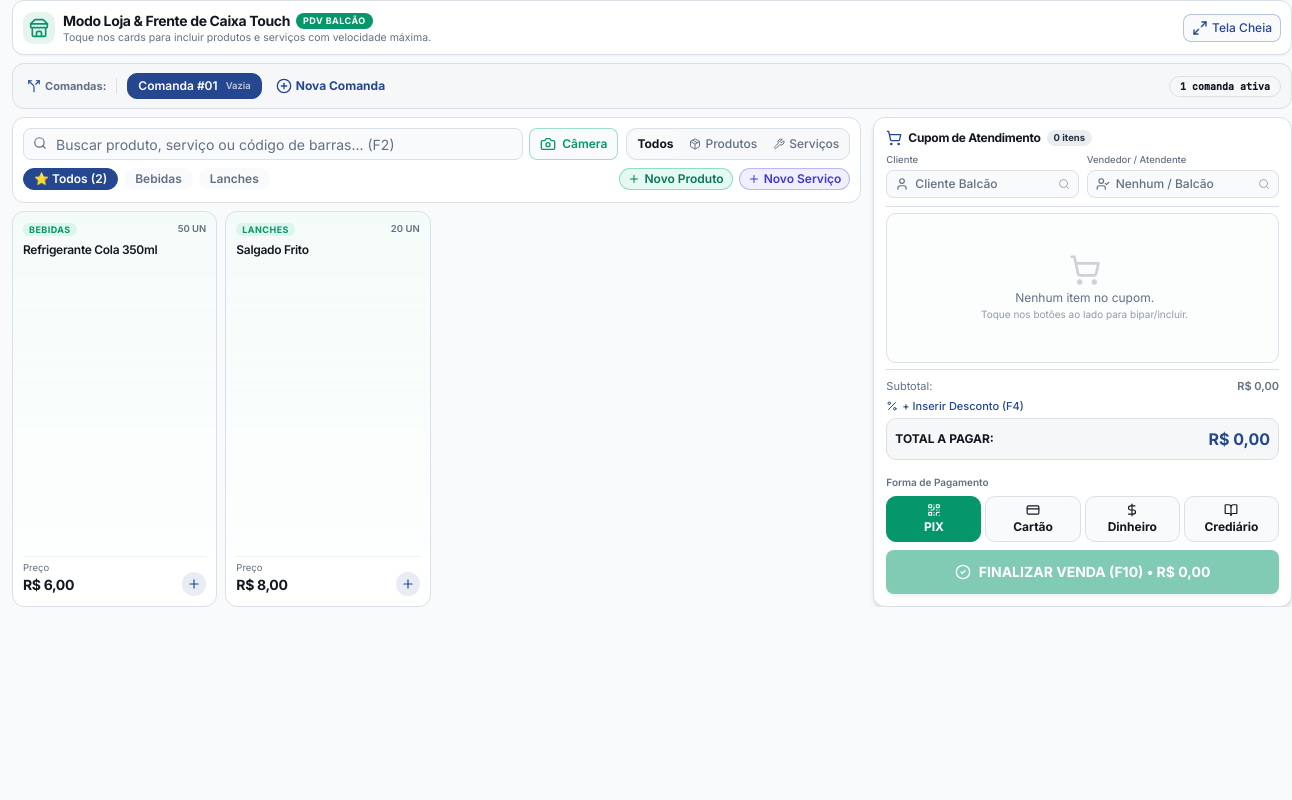
it: StorePos: Modo Comandas & Crediário Próprio › displays Crediário button and analyzes credit limit
# Add item to cart
Click the heading "Refrigerante Cola 350ml": x=90, y=250 [23, 242, 157, 257]
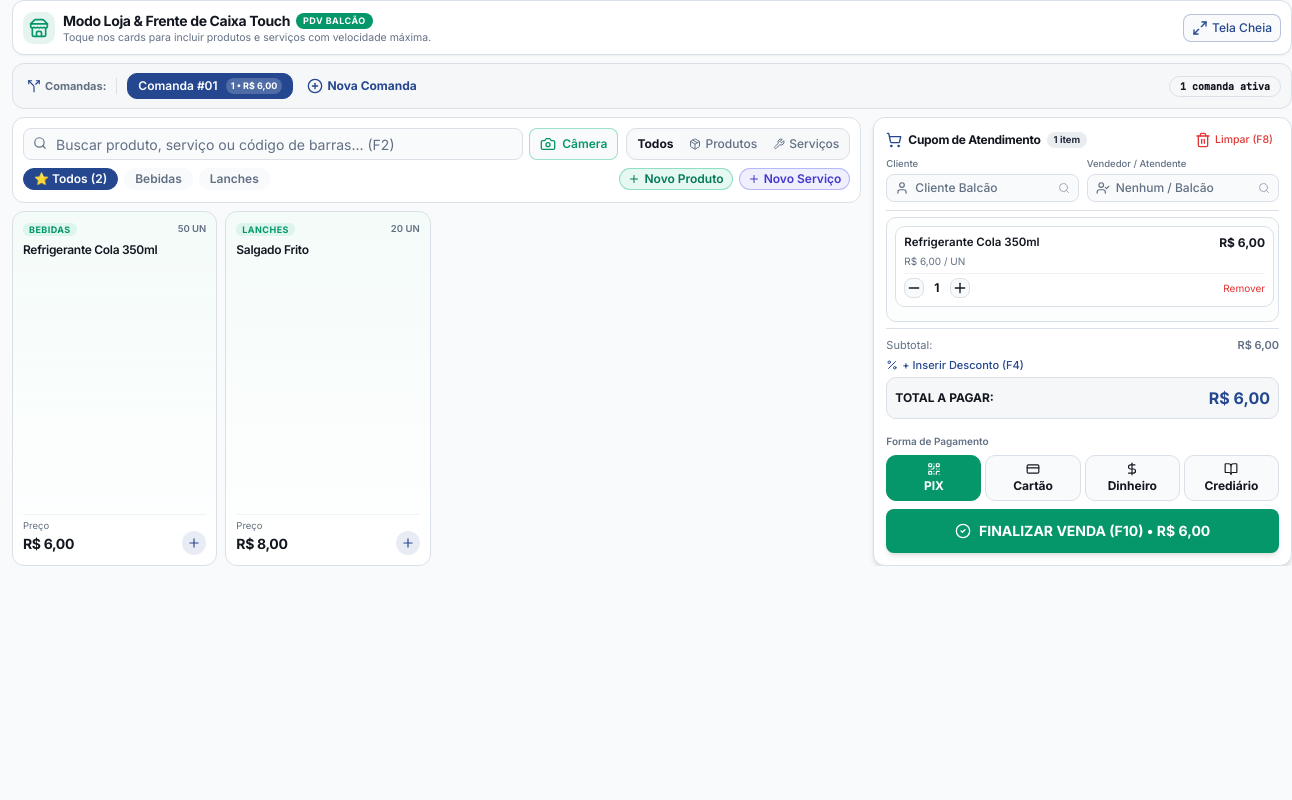
# Click on Crediário button
Click the button "Crediário": x=1231, y=478 [1184, 455, 1279, 501]
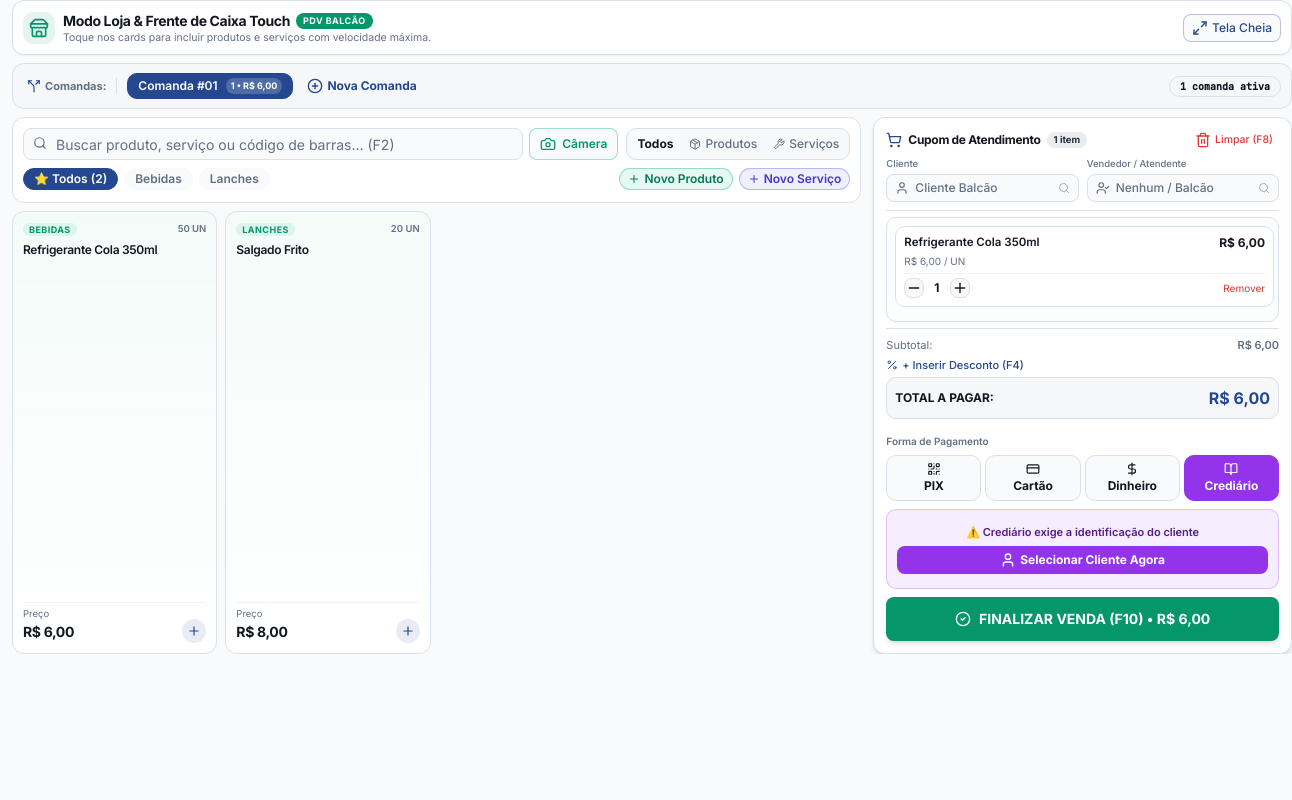
Check: the text "⚠️ Crediário exige a identificação do cliente" is shown, box [966, 525, 1199, 539]
